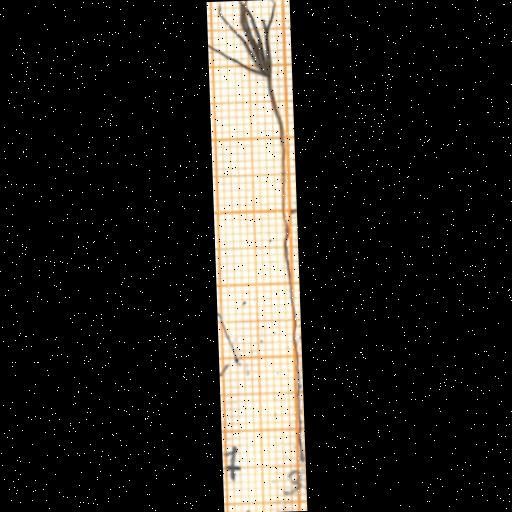flowerPinus: (208, 0, 276, 78)
rootPinus: (284, 222, 304, 461)
stemPinus: (268, 80, 285, 217)
